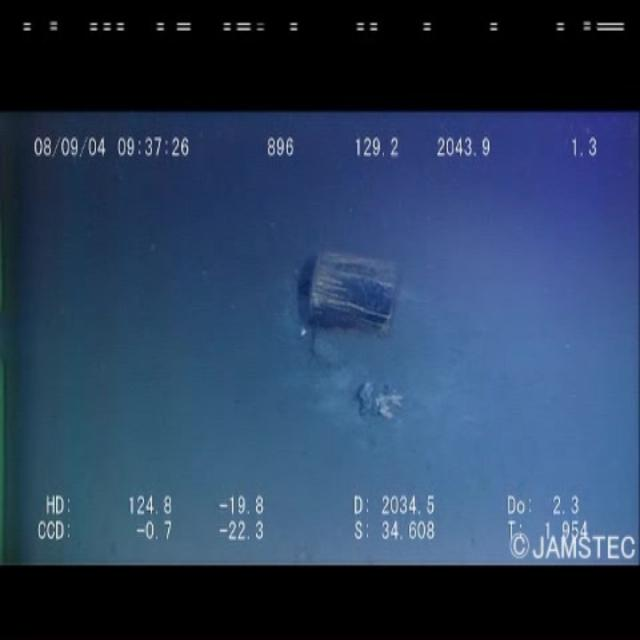Litter: (346, 361, 426, 450)
Metal: (301, 240, 414, 350)
